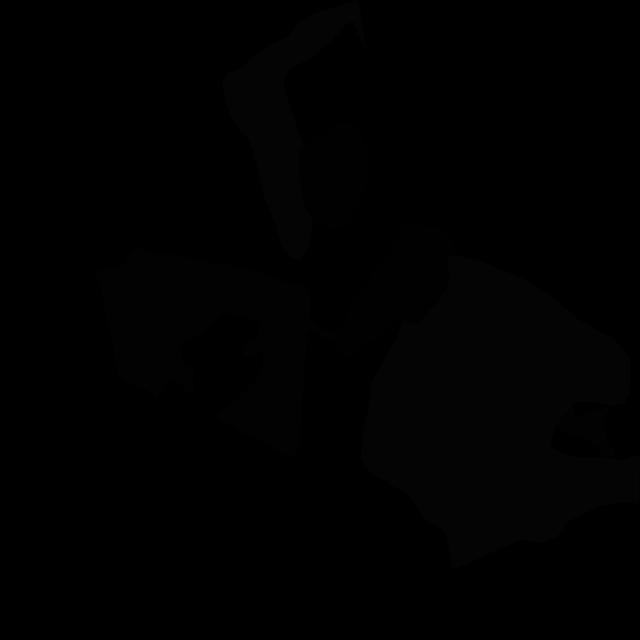cardboard: (96, 248, 333, 455), (556, 405, 616, 458)
rigid_plastic: (333, 221, 454, 358), (299, 122, 368, 230)
soft_plastic: (360, 255, 640, 570), (222, 0, 366, 260)
